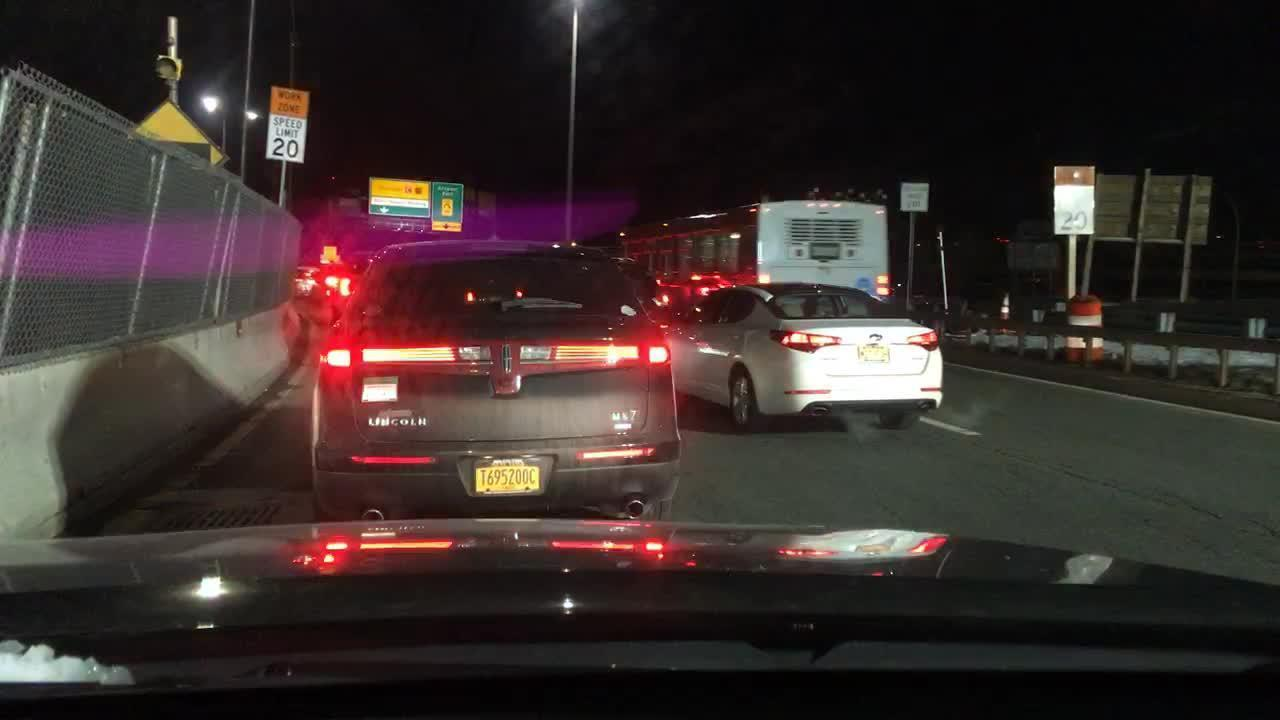lincoln: (490, 329, 519, 388)
